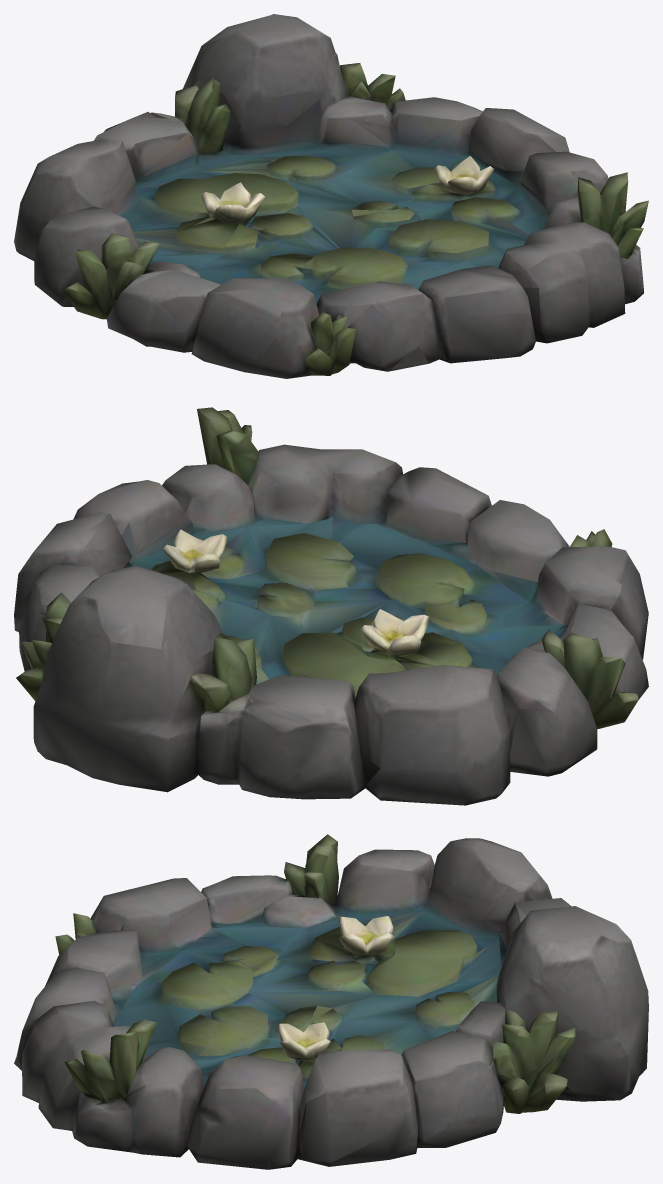
File: pond.glb
3 renders of one model, top to bottom at view 1: azimuth 30°, elevation 25°; view 2: azimuth 150°, elevation 25°; view 3: azimuth 270°, elevation 25°, orthographic. The views are drawn at different scales.
Visible parts, largest first — view 1: tripo_node_b9041a36-ab3e-42ec-be91-569f26356583; view 2: tripo_node_b9041a36-ab3e-42ec-be91-569f26356583; view 3: tripo_node_b9041a36-ab3e-42ec-be91-569f26356583.
Boxes of the visible parts, x1,y1,x2,y2 form: tripo_node_b9041a36-ab3e-42ec-be91-569f26356583: [14, 14, 648, 378]; tripo_node_b9041a36-ab3e-42ec-be91-569f26356583: [14, 407, 648, 805]; tripo_node_b9041a36-ab3e-42ec-be91-569f26356583: [14, 834, 648, 1169].
Bounding box in the file's own units: 0.982 × 0.2561 × 0.9764.
Materials: 1 (1 with a texture image).
